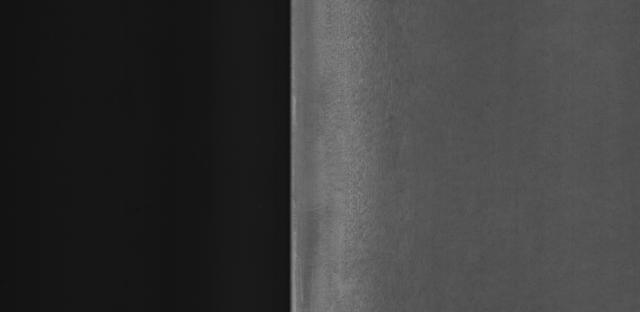silk_spot: (338, 47, 414, 264)
